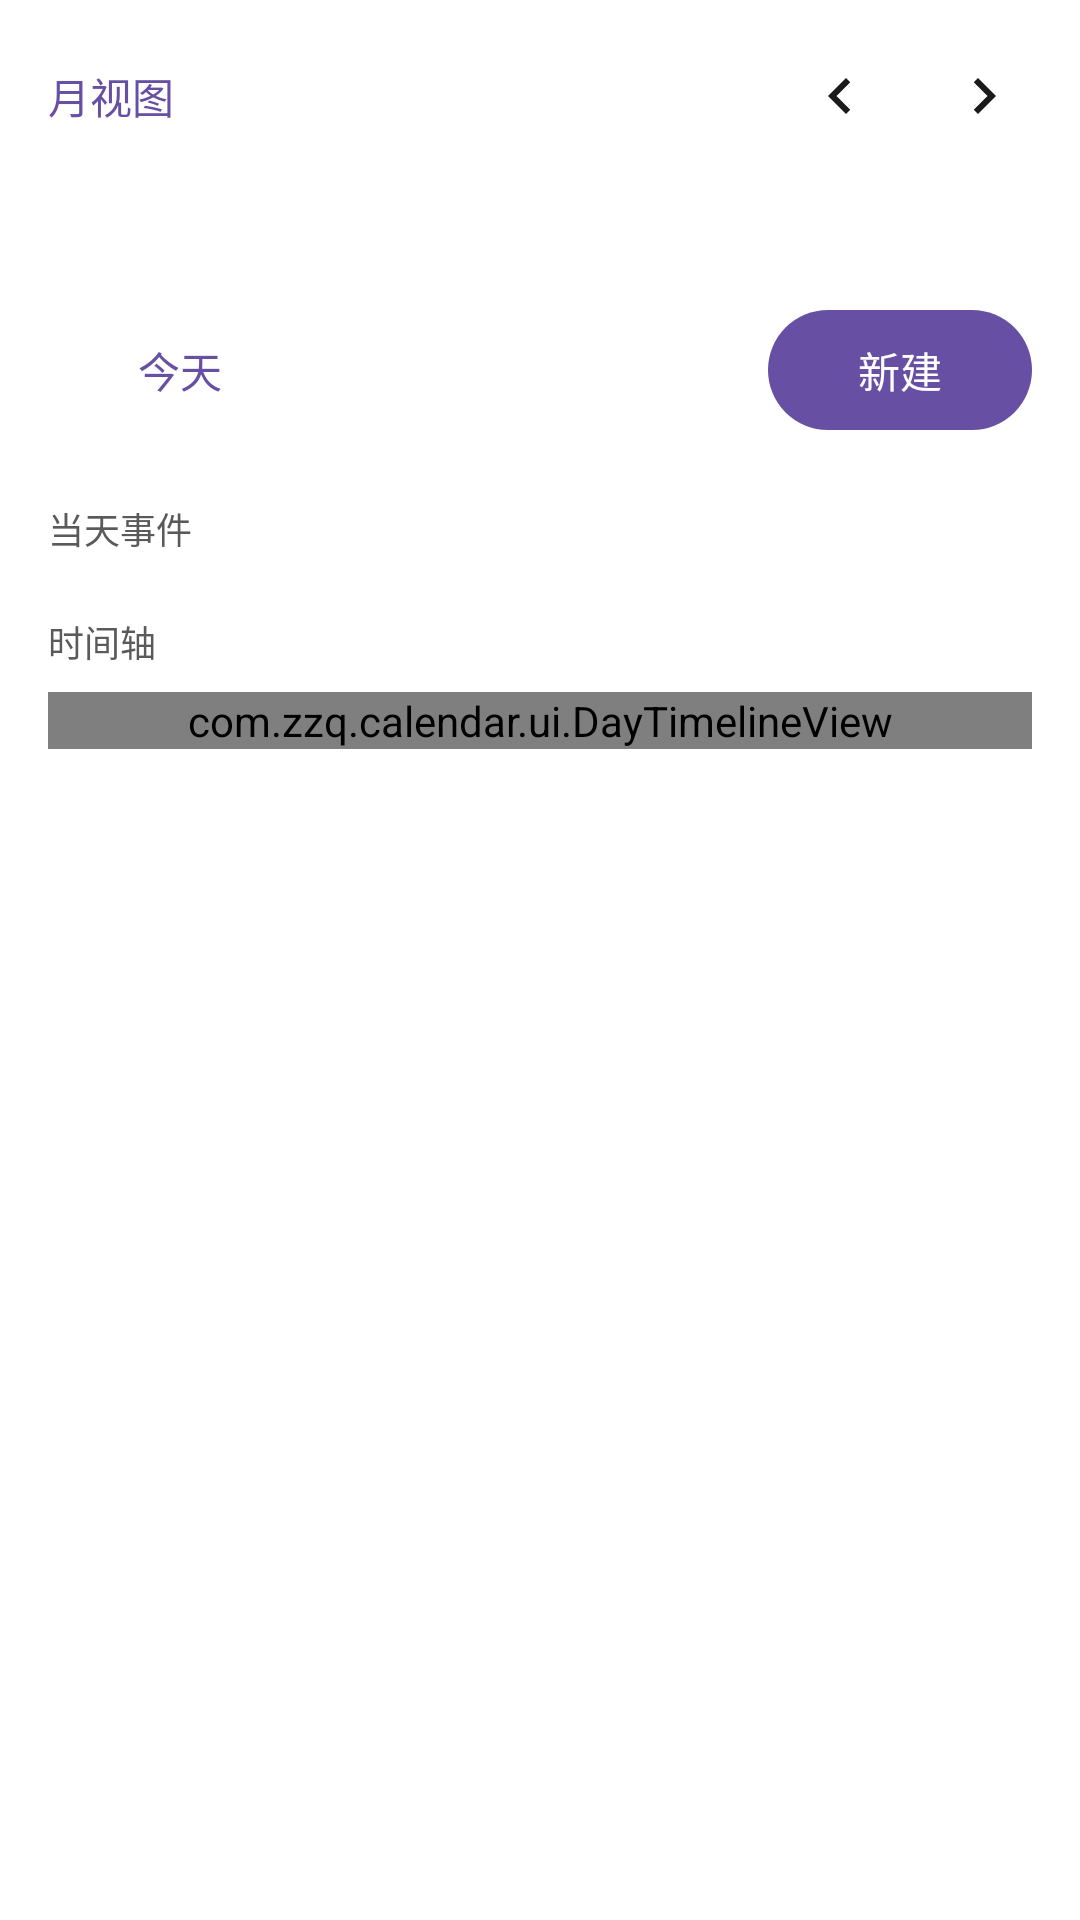

Icons on this 1080 × 1920 Android screen, each with the point to tap as point (x, y):
前一天: point (839, 96)
后一天: point (985, 96)
